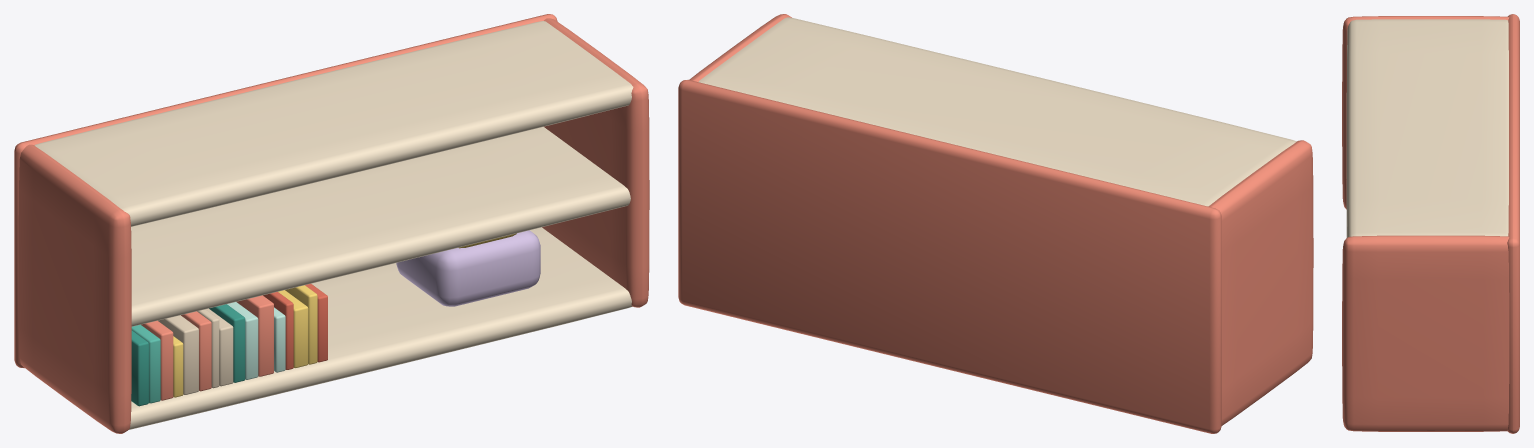
File: tv_stand_b.glb
The picture shows the model from 3 angles, left to right: view 1: azimuth 30°, elevation 25°; view 2: azimuth 150°, elevation 25°; view 3: azimuth 270°, elevation 25°; orthographic projection. The views are drawn at different scales.
Parts seen in each view (by area): view 1: body; view 2: body; view 3: body.
Part boxes in pixels (box(x1,y1,x2,y2)): body: box(14, 14, 649, 433); body: box(678, 14, 1313, 433); body: box(1342, 14, 1519, 433).
Size of the model in its own units: 1.16 by 0.46 by 0.38.
